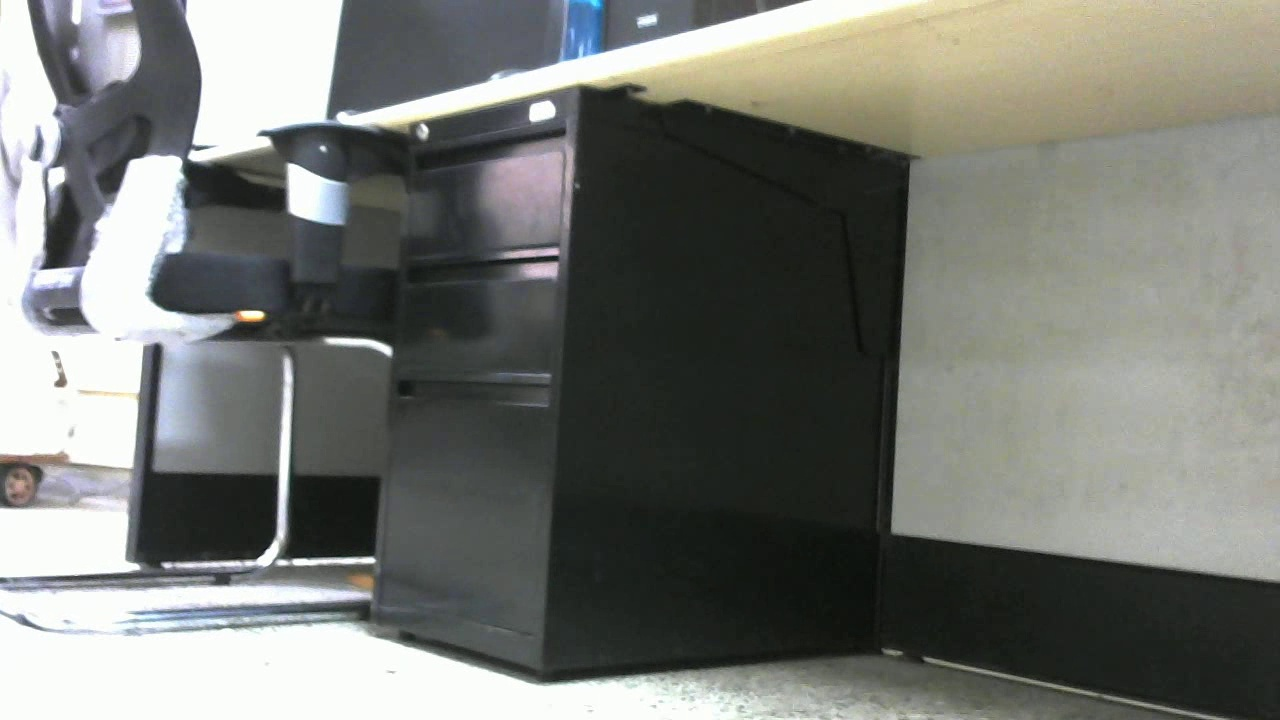chair: (1, 1, 399, 632)
